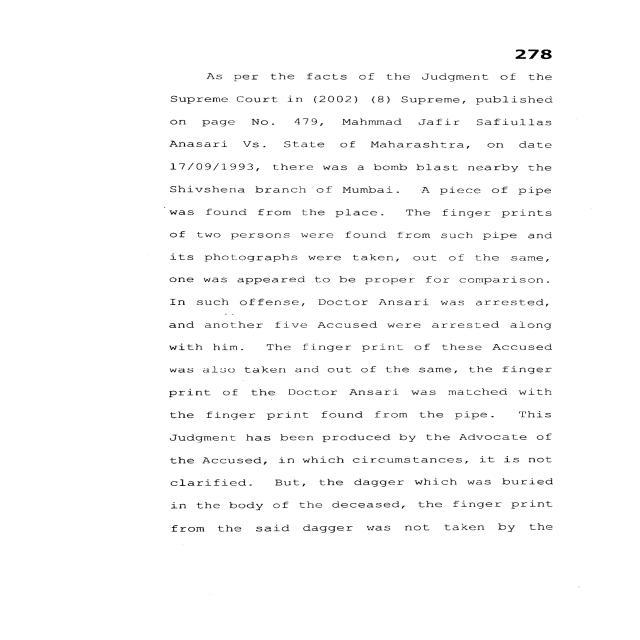page-number: (433, 1, 635, 68)
